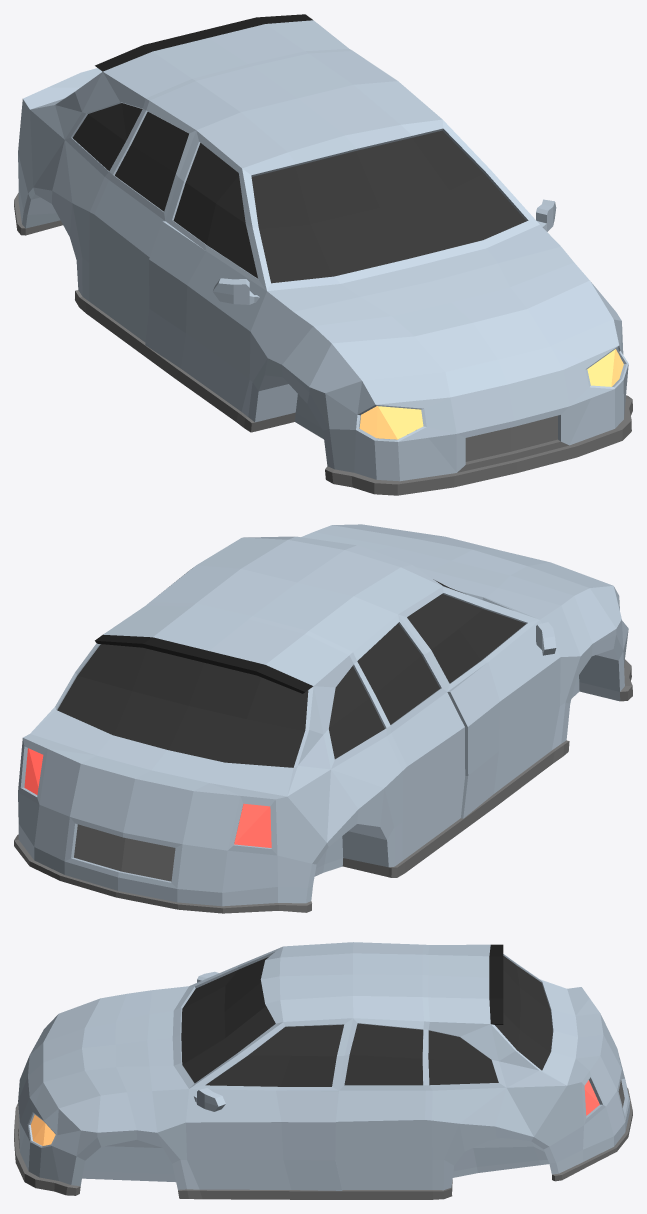
File: car.glb
3 views of the same model, one above another, from view 1: azimuth 30°, elevation 25°; view 2: azimuth 150°, elevation 25°; view 3: azimuth 270°, elevation 25° (orthographic). The views are drawn at different scales.
Visible parts, largest first — view 1: car; view 2: car; view 3: car.
Part boxes in pixels (x1=…): car: x1=14, y1=14, x2=632, y2=495; car: x1=14, y1=524, x2=632, y2=913; car: x1=14, y1=942, x2=632, y2=1199.
Bounding box in the file's own units: 1.64 × 0.9745 × 3.31.
